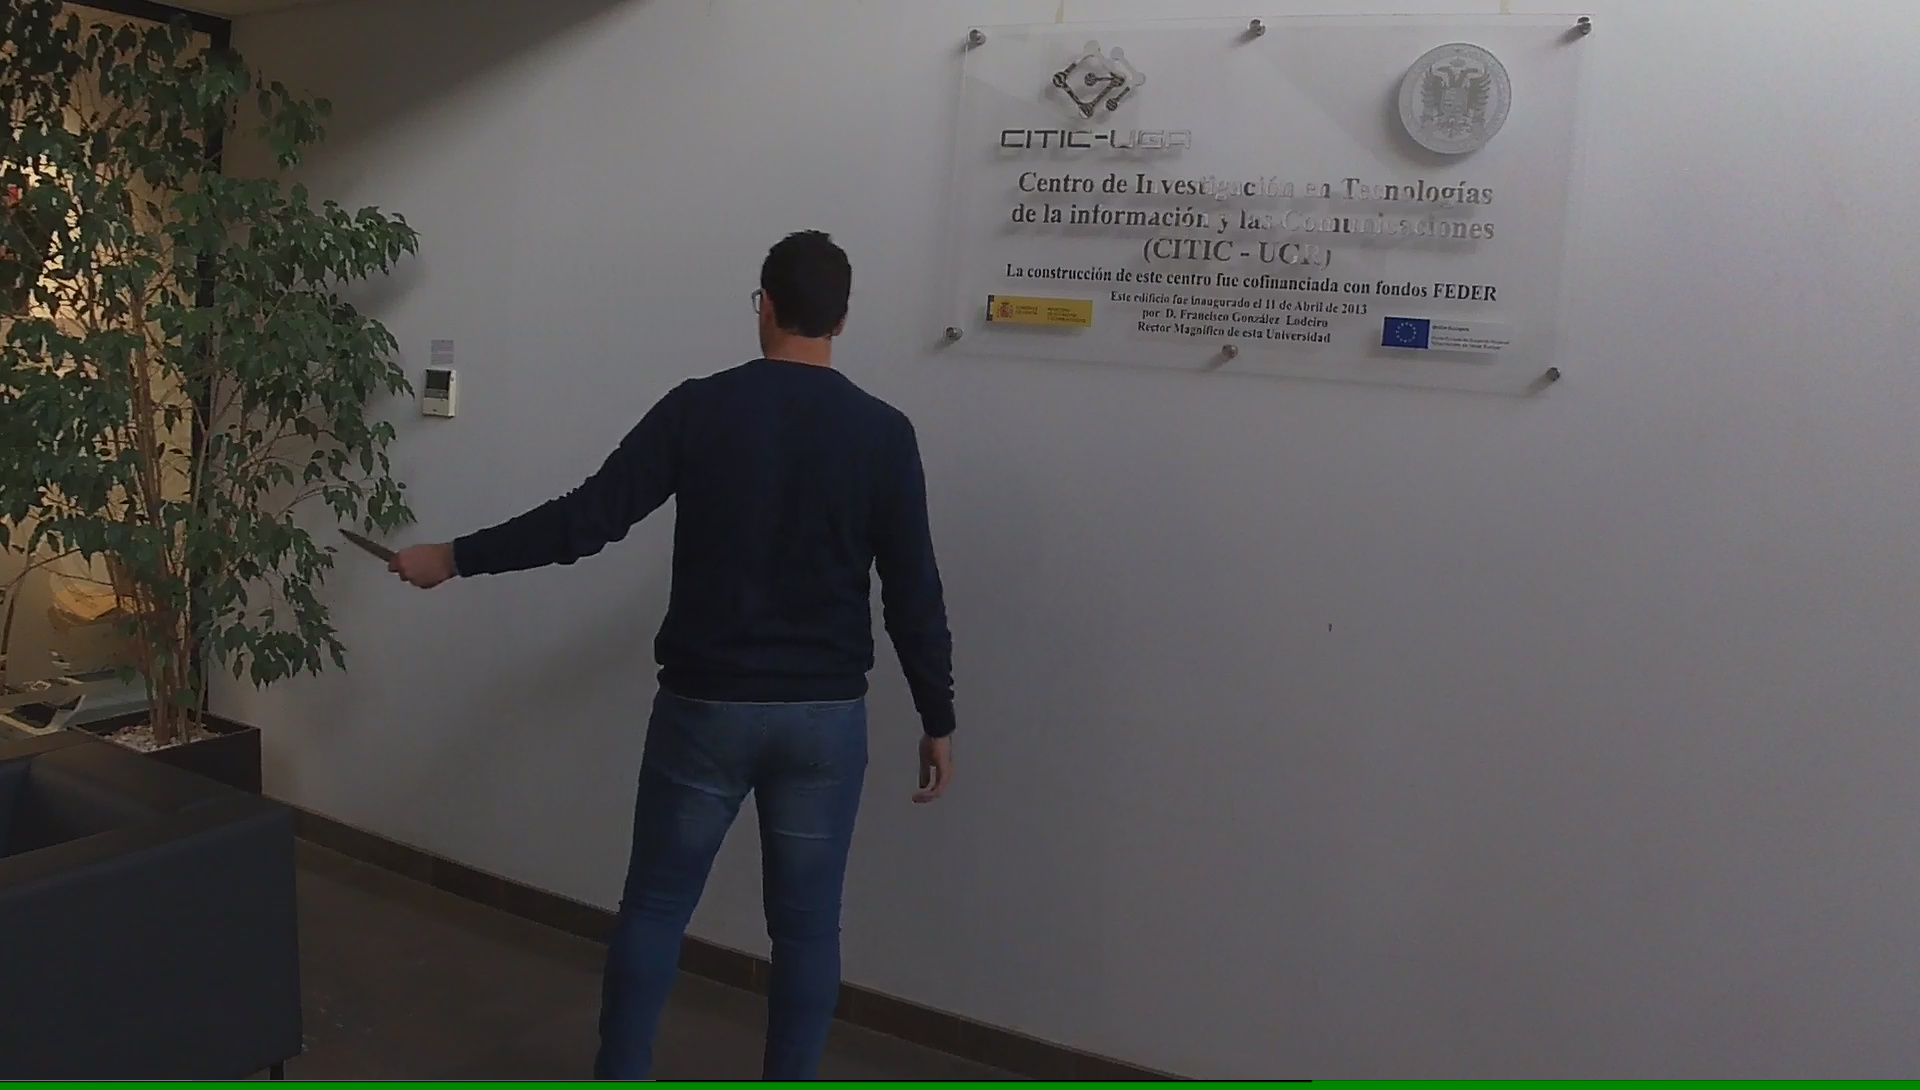knife: (334, 521, 436, 592)
